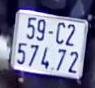2: (68, 48, 80, 78), (65, 20, 76, 48)
4: (40, 45, 50, 70)
5: (14, 38, 26, 66), (25, 16, 36, 41)
7: (55, 46, 66, 74), (29, 43, 40, 68)
9: (36, 18, 47, 41)
C: (55, 21, 66, 46)
